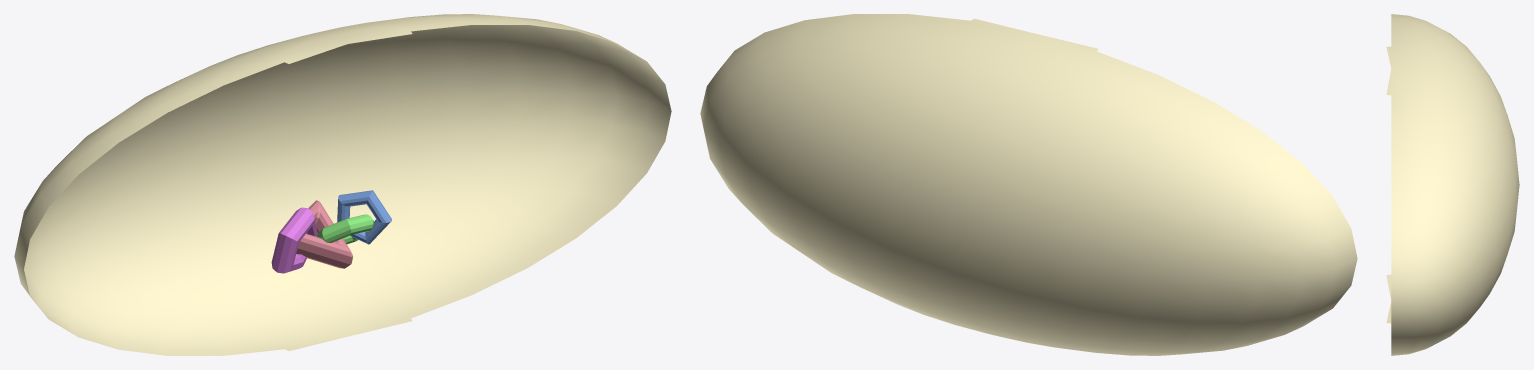
Rendered from tile-3.glb.
3 views of the same model, side by side, from view 1: azimuth 30°, elevation 25°; view 2: azimuth 150°, elevation 25°; view 3: azimuth 270°, elevation 25° (orthographic). The views are drawn at different scales.
Parts seen in each view (by area): view 1: Background, Torus, Triangle, Pentagon, Hexagon; view 2: Background; view 3: Background.
Boxes of the visible parts, x1,y1,x2,y2 form: Background: (14, 14, 671, 355); Torus: (271, 207, 317, 273); Triangle: (296, 200, 352, 268); Pentagon: (337, 190, 391, 244); Hexagon: (317, 214, 373, 244); Background: (700, 14, 1357, 355); Background: (1386, 14, 1519, 355).
Size of the model in its own units: 28.79 by 12.43 by 6.45.
